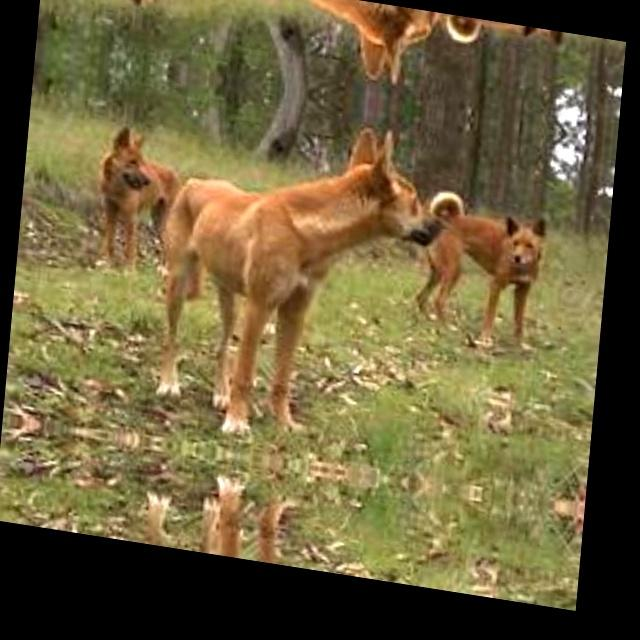dog: (150, 118, 448, 428), (136, 496, 414, 585), (416, 188, 566, 346), (182, 0, 460, 71), (442, 14, 581, 59)
